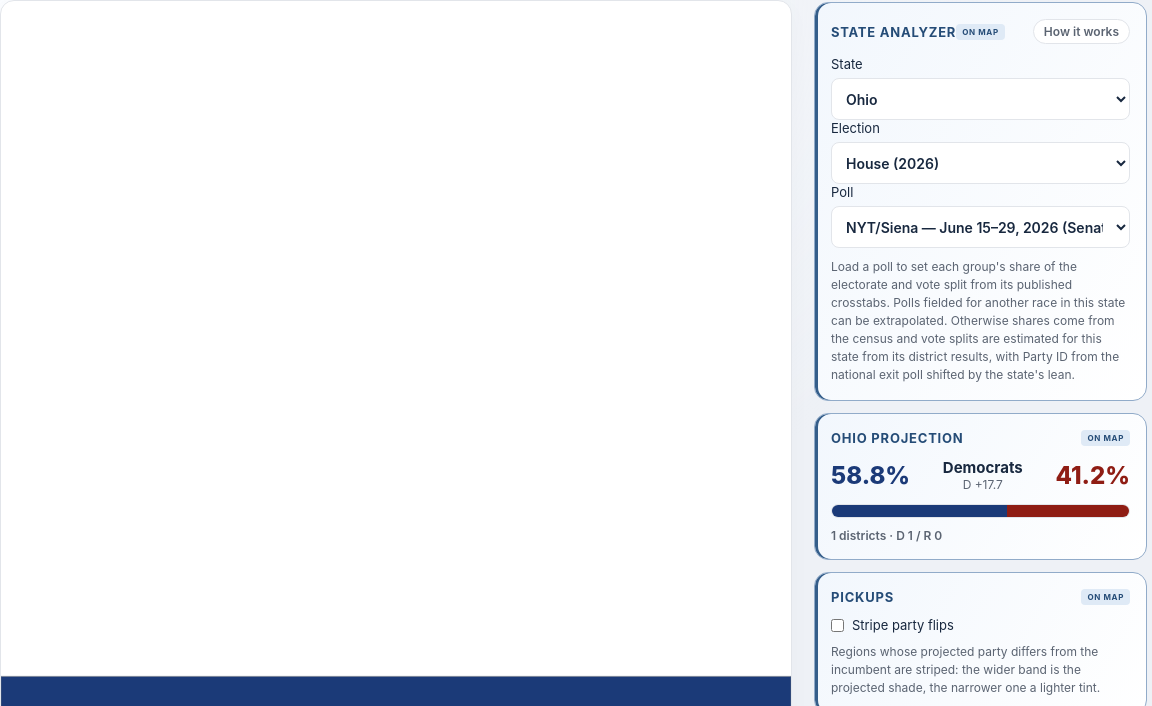
Scenario: StateAnalyzer › keeps a loaded poll when switching between races in the same state
Select "NYT/Siena — June 15–29, 2026 (Senate)" in the dropdown with id "analyzer-poll" at point(980, 227), box [831,206,1130,248]
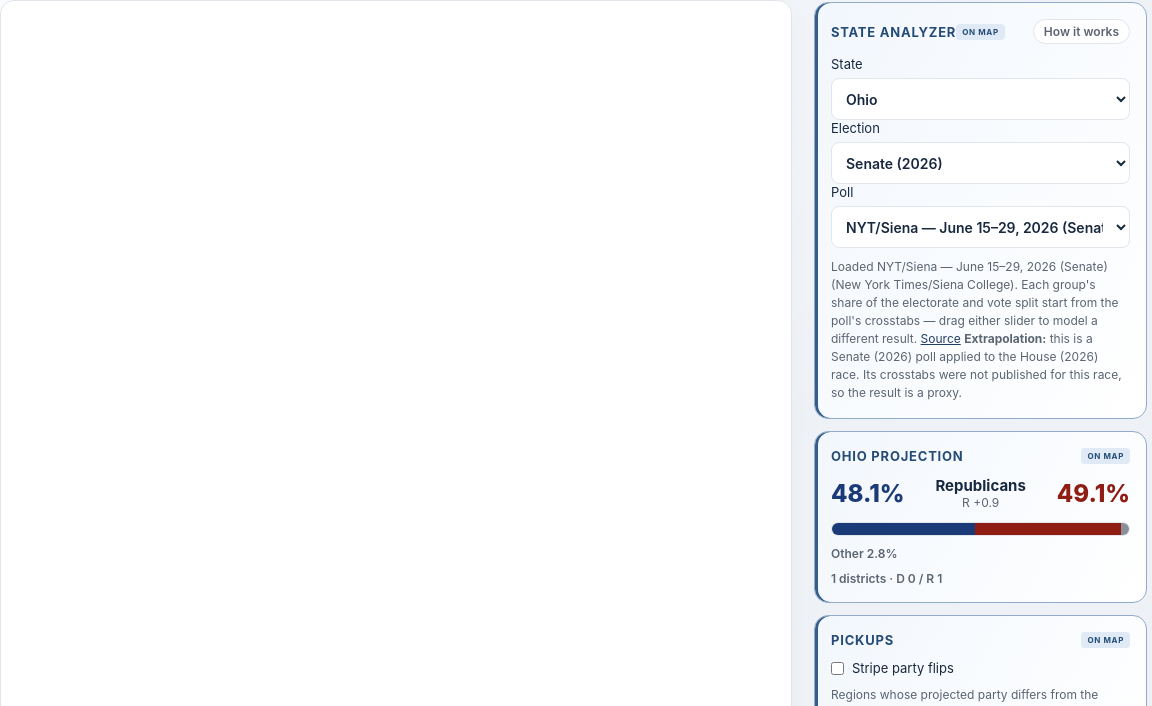
Select "Senate (2026)" in the dropdown with id "analyzer-election" at point(980, 163), box [831,142,1130,184]
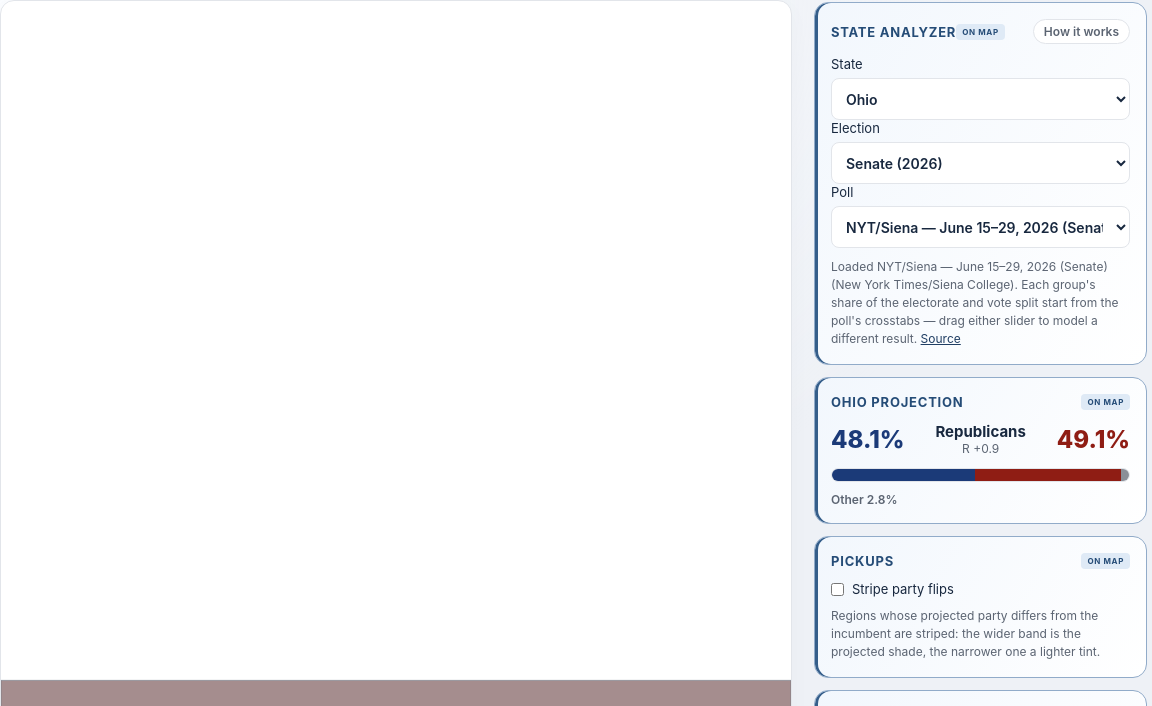
Result: the text "Extrapolation" is gone
